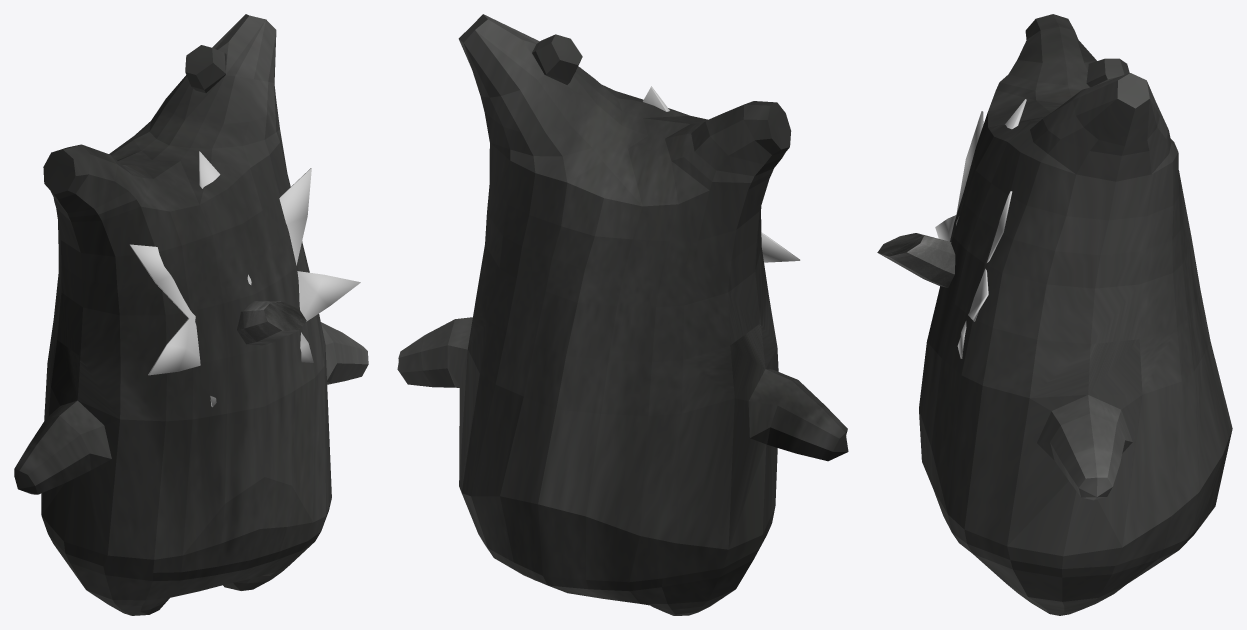
File: frame_0022.obj
3 views of the same model, side by side, from view 1: azimuth 30°, elevation 25°; view 2: azimuth 150°, elevation 25°; view 3: azimuth 270°, elevation 25° (orthographic). The views are drawn at different scales.
Visible parts, largest first — view 1: korok, leaf.003_柱体.013, nose.003_柱体.011; view 2: korok, leaf.003_柱体.013; view 3: korok, nose.003_柱体.011, leaf.003_柱体.013.
Part boxes in pixels (left/top/right/bottom): korok: left=14, top=14, right=368, bottom=615; leaf.003_柱体.013: left=129, top=151, right=360, bottom=407; nose.003_柱体.011: left=237, top=301, right=306, bottom=345; korok: left=397, top=14, right=848, bottom=615; leaf.003_柱体.013: left=643, top=86, right=800, bottom=262; korok: left=919, top=14, right=1232, bottom=615; nose.003_柱体.011: left=877, top=233, right=955, bottom=287; leaf.003_柱体.013: left=935, top=99, right=1026, bottom=358.
Bounding box in the file's own units: 1.7 × 2.29 × 1.32.
